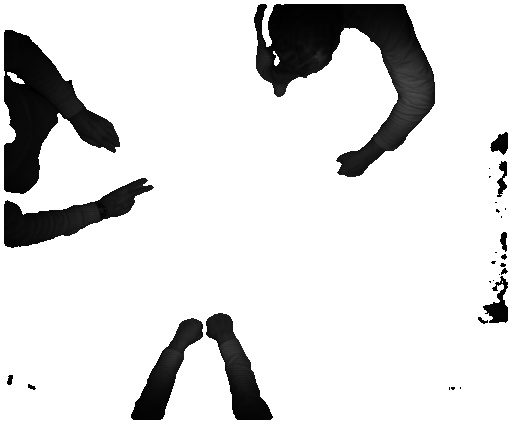fist: (174, 314, 206, 346), (336, 150, 366, 183), (205, 312, 237, 342)
hand: (103, 178, 159, 223), (77, 112, 119, 159)
